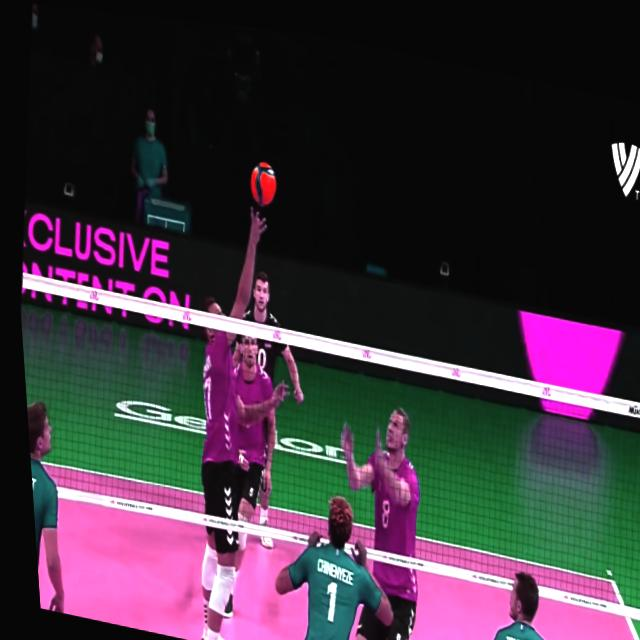player: (151, 180, 290, 640), (305, 382, 434, 640), (215, 264, 320, 551), (256, 473, 404, 640), (20, 390, 82, 614), (463, 548, 558, 640)
